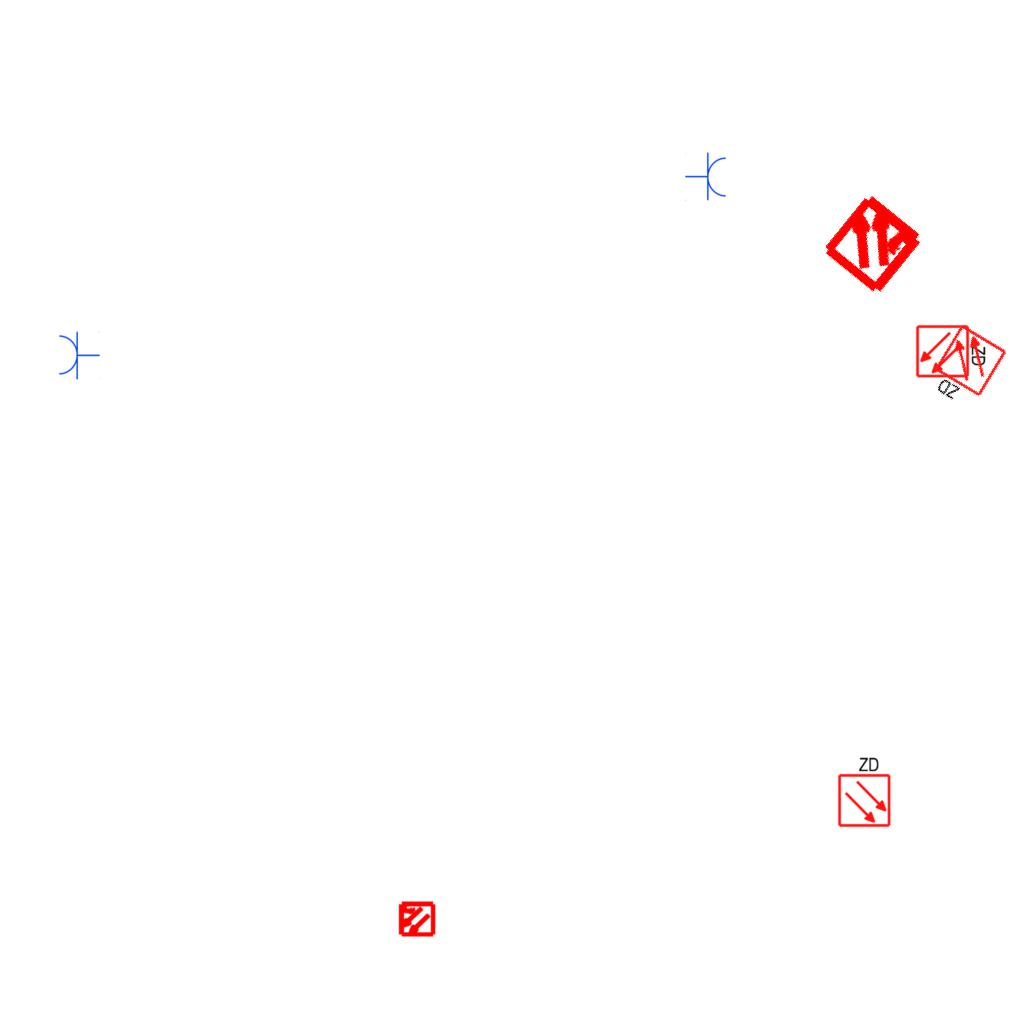OT_Multisensormelder_(Kombination_RMO_WMD): (795, 163, 954, 322), (388, 891, 444, 947)
Schukosteckdose_einfach: (57, 330, 100, 380), (685, 152, 728, 202)
ZD_Melder_in_Zwischendecke_mit_Revisionsoeffnung_mind_40_x_40_cm: (923, 322, 1010, 416), (835, 754, 892, 828), (915, 322, 989, 379)
